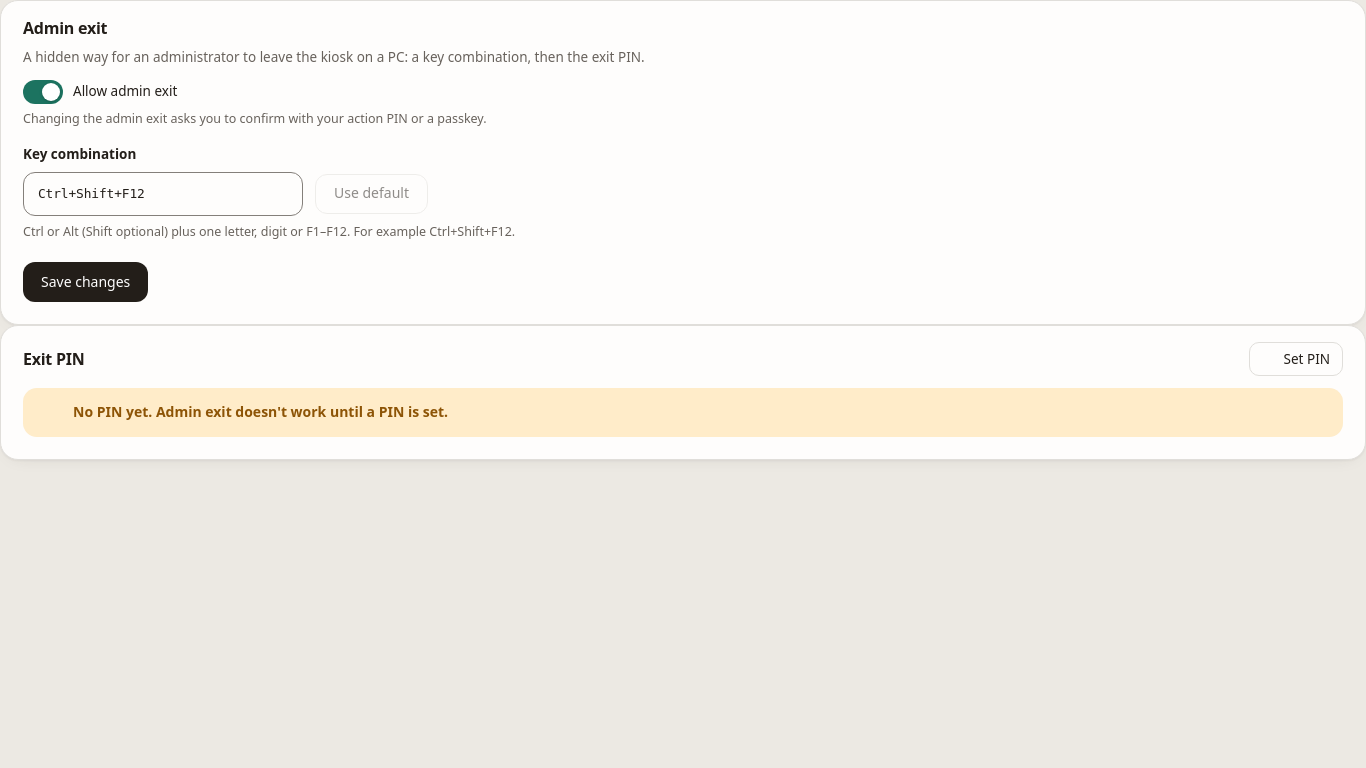
Test case: Settings → Admin exit (settings:get / update / setExitPin / clearExitPin) › setting the exit PIN goes through the step-up dialog, then retries once
The width and height of the screenshot is (1366, 768).
Step 1. Click the button "Set PIN" → (1296,359), box [1249,342,1343,376]
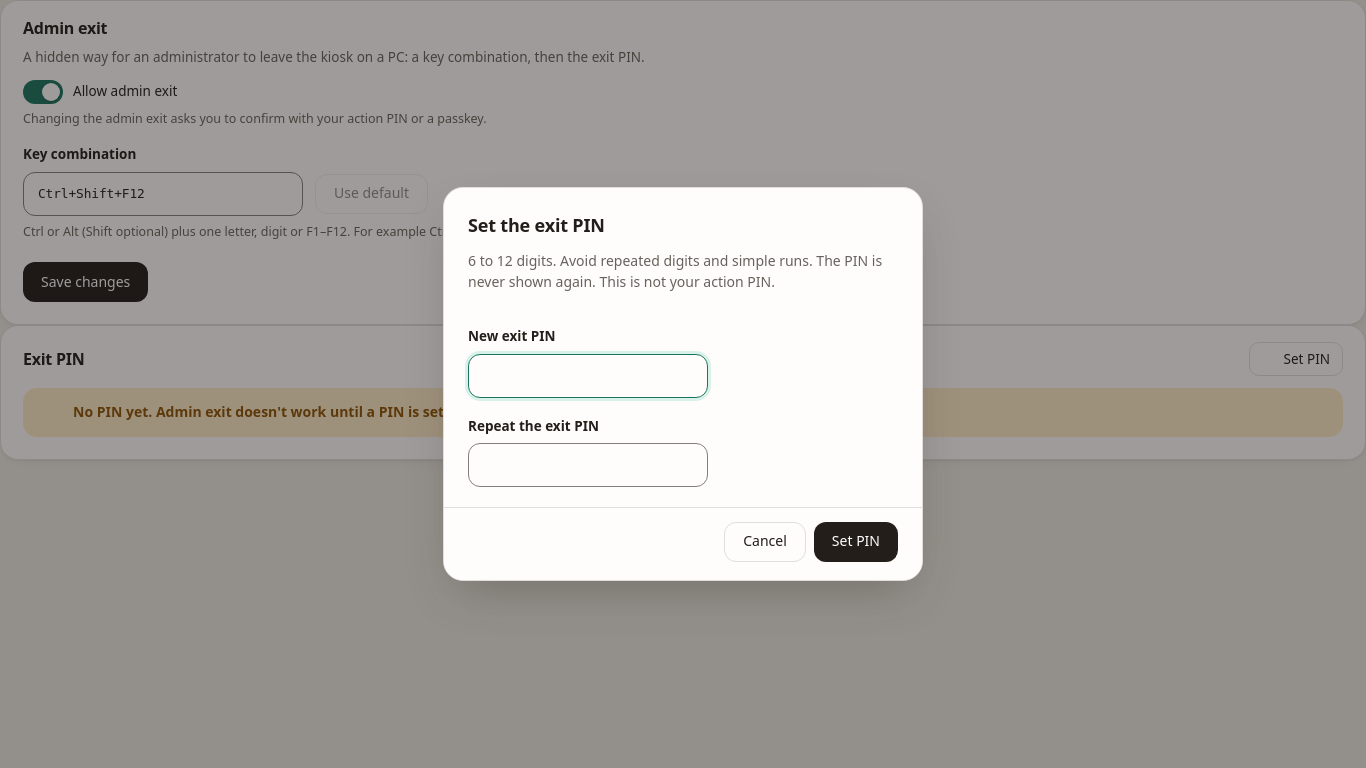
Step 2. Type "246813" into the password field labelled "New exit PIN" → (588,376), box [468,354,708,398]
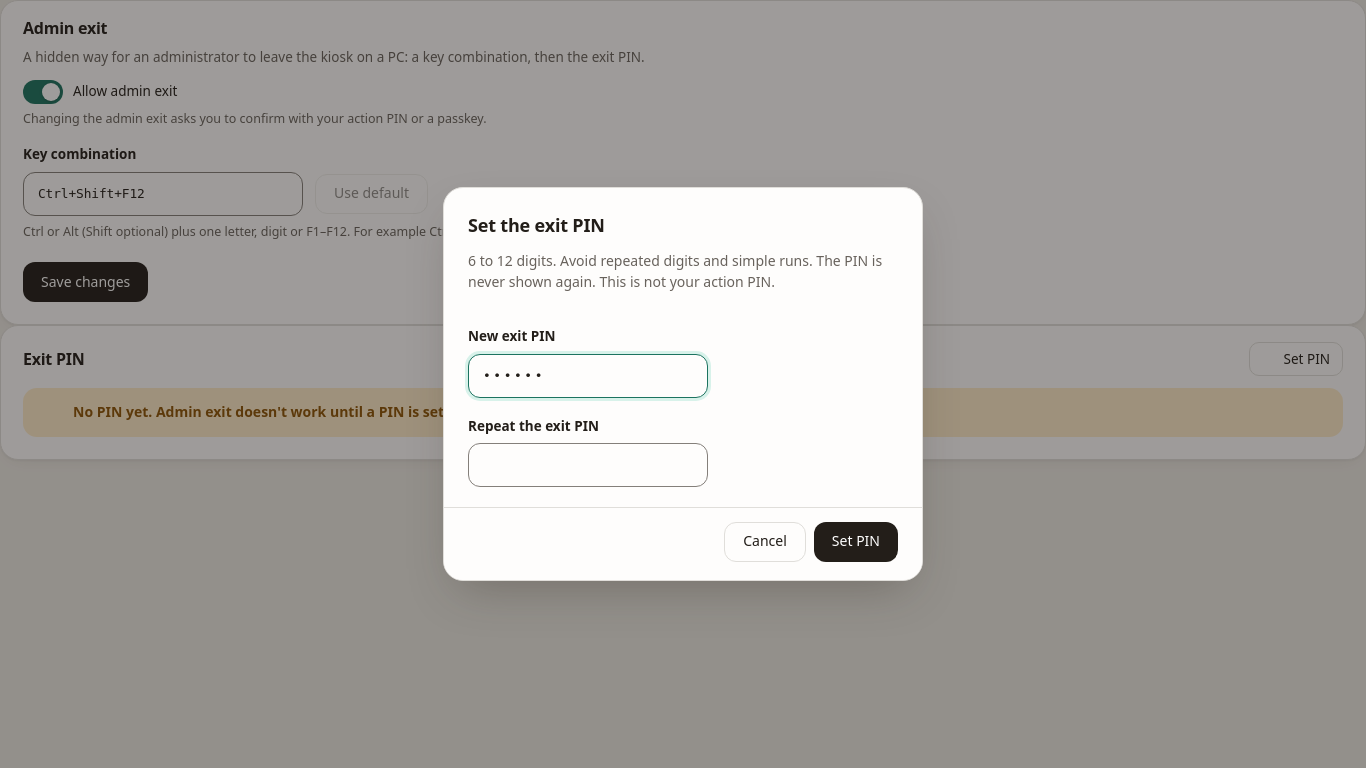
Step 3. Type "246813" into the password field labelled "Repeat the exit PIN" → (588,465), box [468,443,708,487]
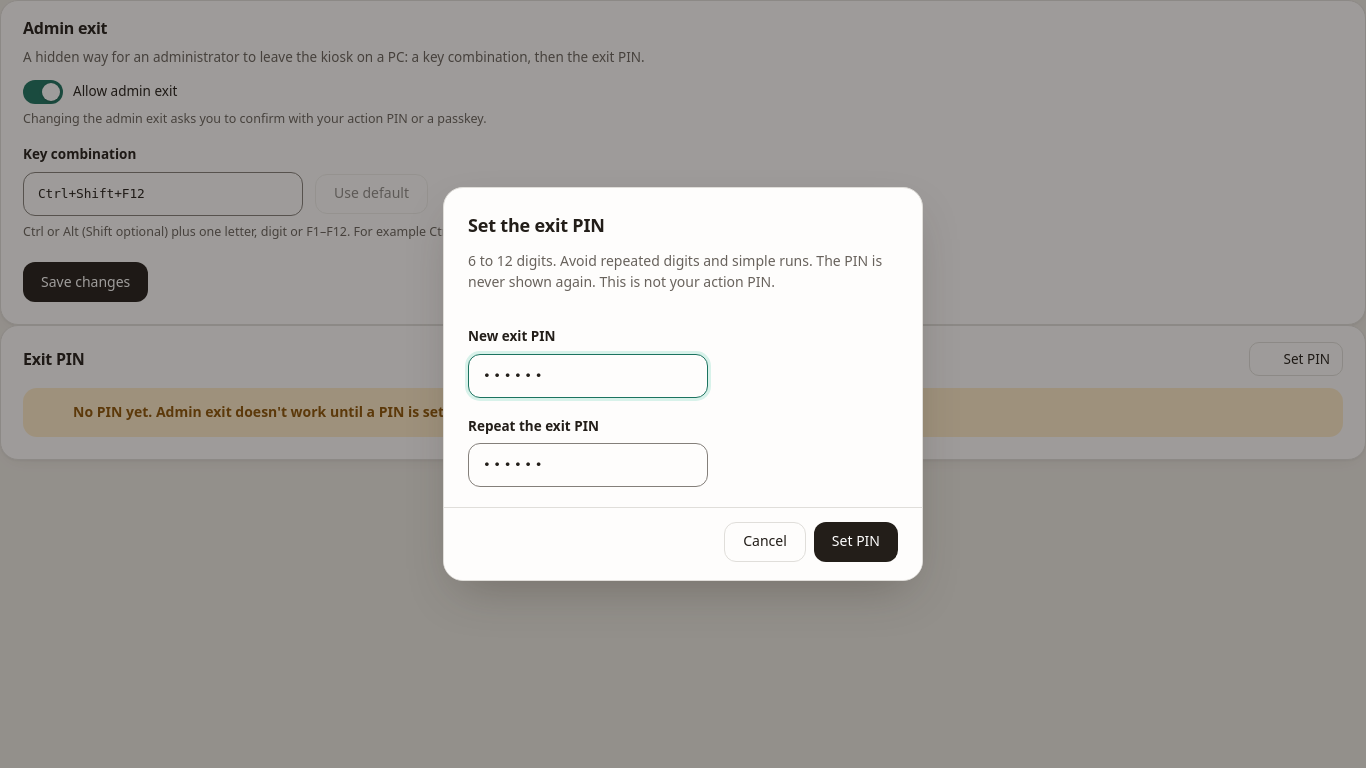
Step 4. Click the button "Set PIN" → (856,542), box [814,522,898,562]
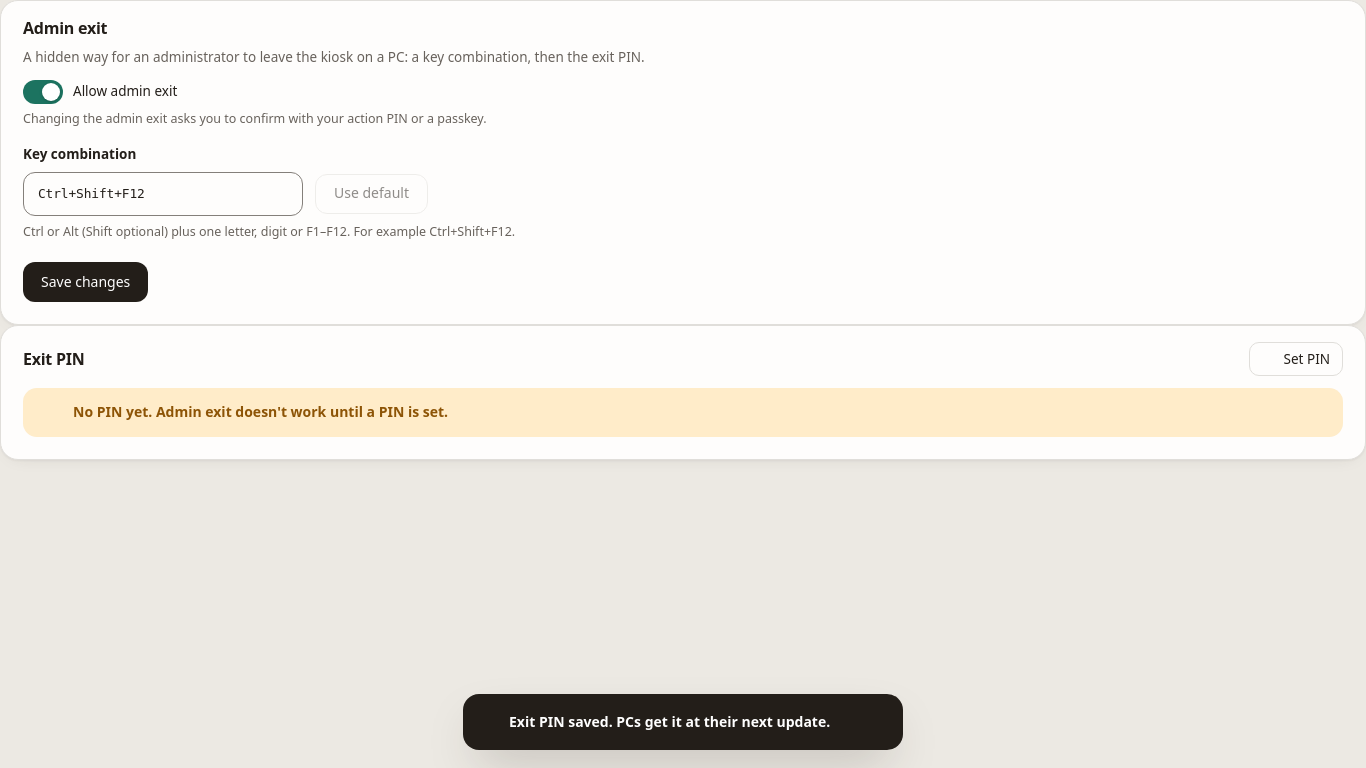
Now the text "Exit PIN saved. PCs get it at their next update." is shown, box [509,712,849,732]
Now the dialog is gone
